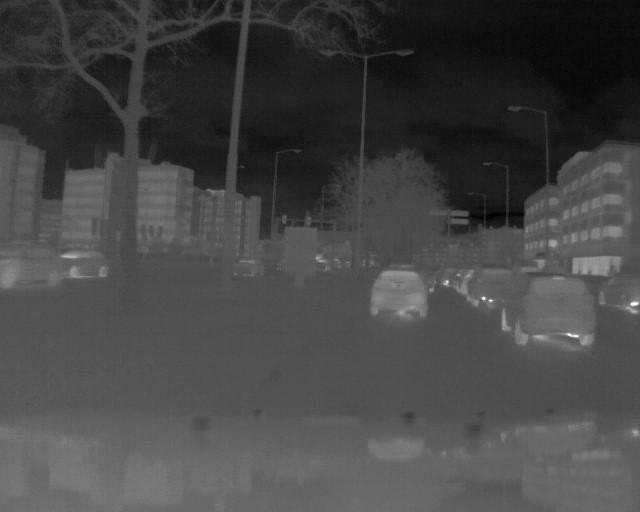car: (497, 274, 602, 350), (368, 268, 432, 322), (465, 267, 517, 309), (595, 275, 640, 312), (58, 251, 112, 280)
